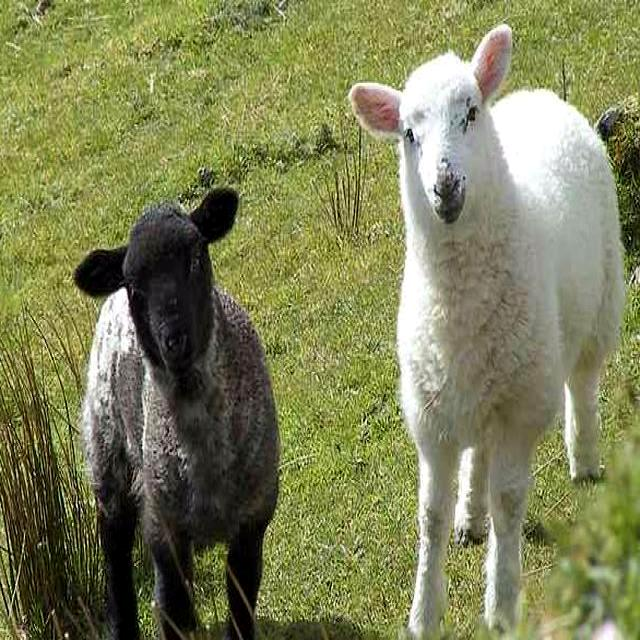sheep: (348, 27, 622, 640), (71, 189, 279, 640)
